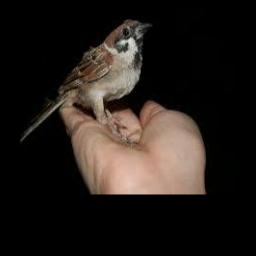Sparrow: (20, 17, 153, 140)
